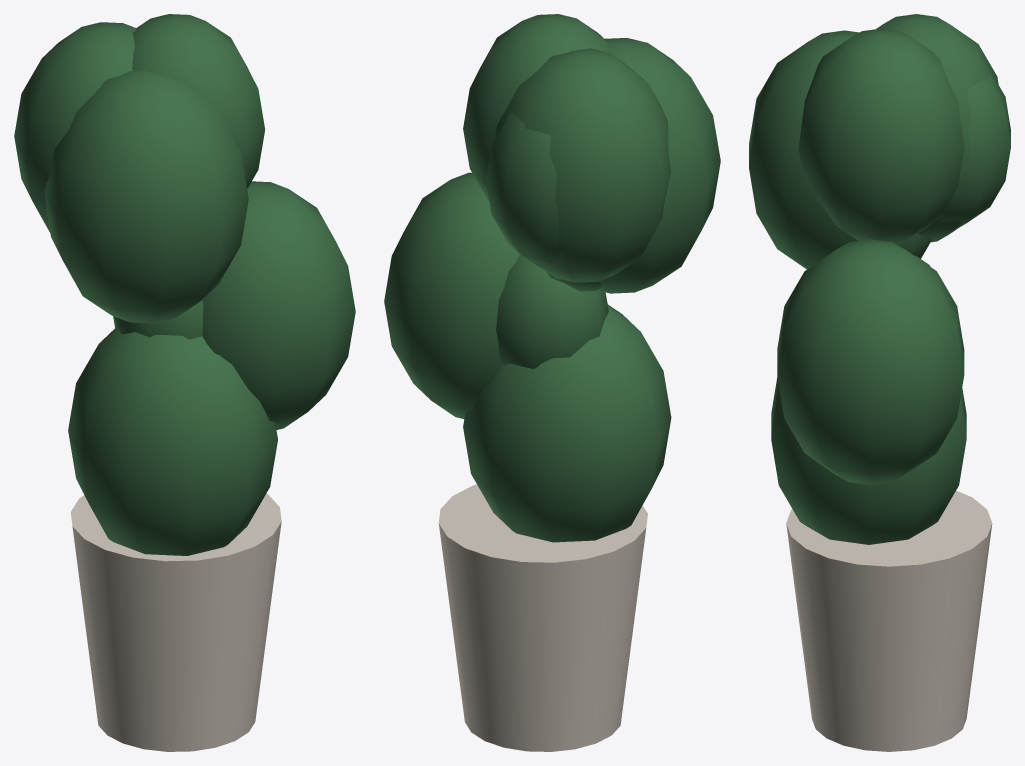
File: Plant_6.glb
3 views of the same model, side by side, from view 1: azimuth 30°, elevation 25°; view 2: azimuth 150°, elevation 25°; view 3: azimuth 270°, elevation 25° (orthographic). The views are drawn at different scales.
Parts seen in each view (by area): view 1: Plant_6_Foliage, Plant_6_Planter; view 2: Plant_6_Foliage, Plant_6_Planter; view 3: Plant_6_Foliage, Plant_6_Planter.
Part boxes in pixels (bbox=[...]): Plant_6_Foliage: bbox=[14, 14, 355, 555]; Plant_6_Planter: bbox=[70, 493, 281, 751]; Plant_6_Foliage: bbox=[384, 14, 720, 542]; Plant_6_Planter: bbox=[438, 484, 647, 751]; Plant_6_Foliage: bbox=[749, 14, 1010, 544]; Plant_6_Planter: bbox=[786, 490, 992, 751].
Bounding box in the file's own units: 0.6525 × 1.46 × 0.5077.
